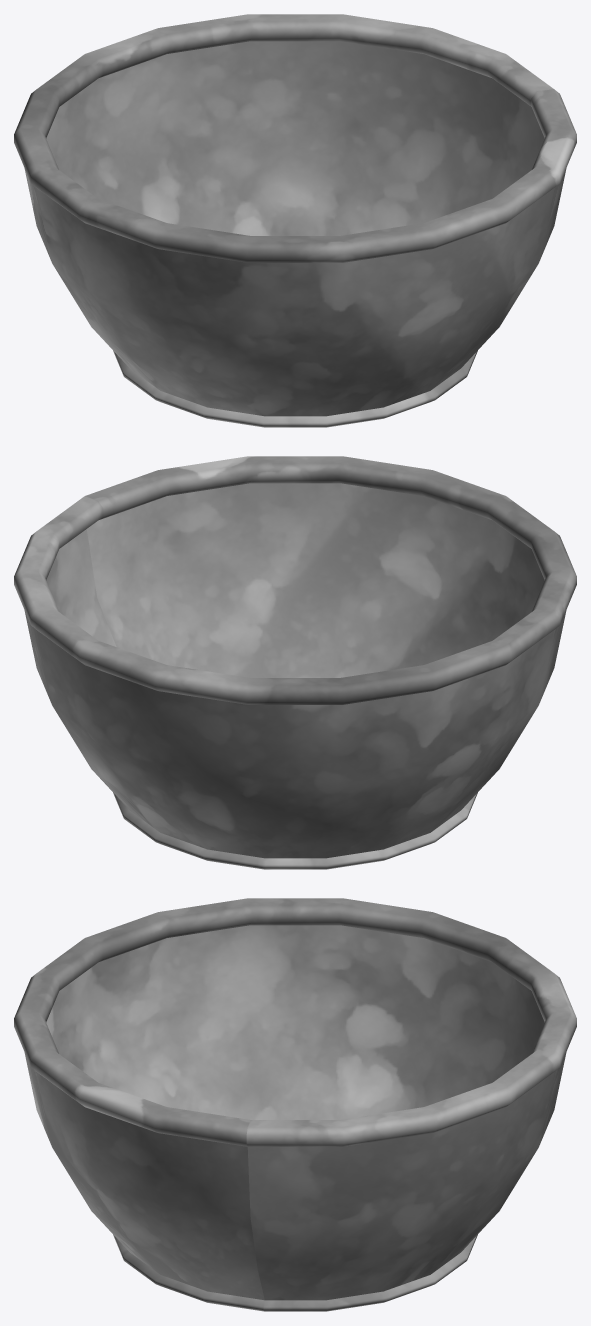
The model's file is SM_WickerBasket_01a.fbx.
3 views of the same model, one above another, from view 1: azimuth 30°, elevation 25°; view 2: azimuth 150°, elevation 25°; view 3: azimuth 270°, elevation 25° (orthographic).
Visible parts, largest first — view 1: SM_WickerBasket_01a_LOD0; view 2: SM_WickerBasket_01a_LOD0; view 3: SM_WickerBasket_01a_LOD0.
Boxes of the visible parts, x1,y1,x2,y2 form: SM_WickerBasket_01a_LOD0: (14, 14, 576, 427); SM_WickerBasket_01a_LOD0: (14, 456, 576, 869); SM_WickerBasket_01a_LOD0: (14, 898, 576, 1311).
Bounding box in the file's own units: 56.64 × 57.52 × 25.41.
